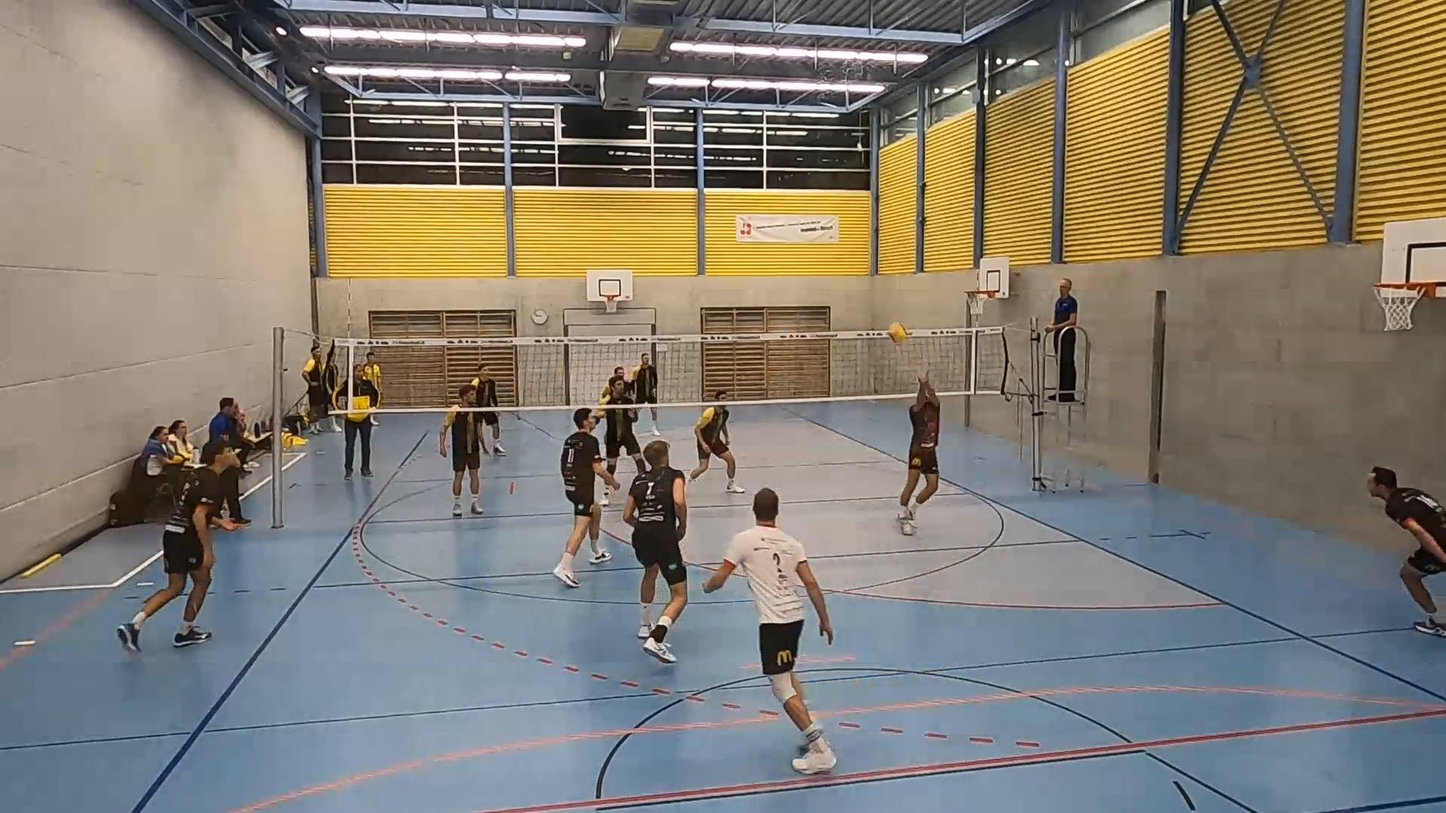Player: (703, 488, 836, 774), (117, 441, 239, 650), (623, 440, 687, 662), (1368, 467, 1445, 636), (553, 407, 618, 587), (439, 385, 485, 517), (688, 390, 745, 493), (599, 380, 647, 476), (633, 353, 660, 436), (477, 411, 506, 456), (600, 366, 630, 397)
Set: (893, 368, 942, 536)
ball: (886, 325, 910, 340)
